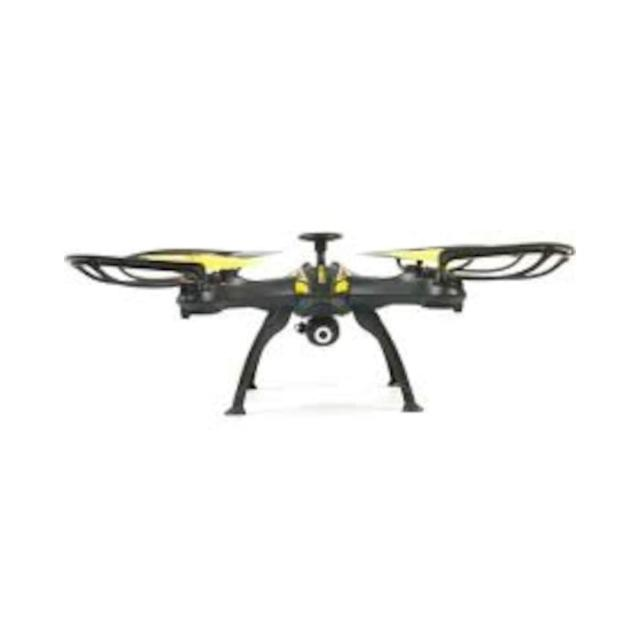drone: (48, 70, 620, 435)
